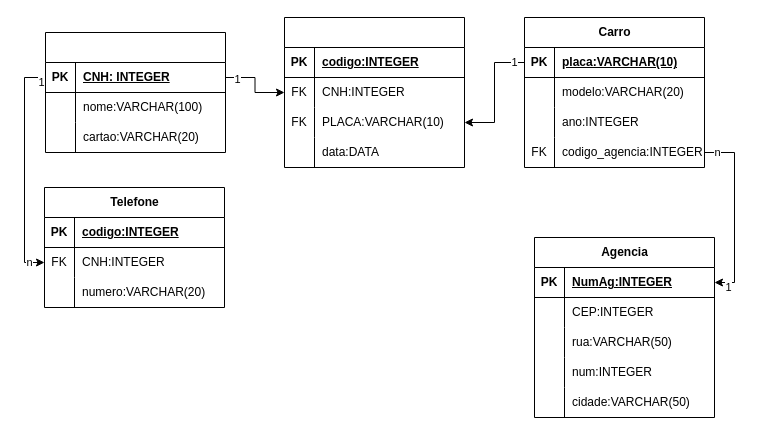
Some shapes in this 760 by 435 pixel diagram are drawn without their labels. Here are the shapes that lost their labels. From the top down, the box of each, then its label:
(44, 32, 226, 152): Cliente
(284, 16, 464, 168): Aluga
